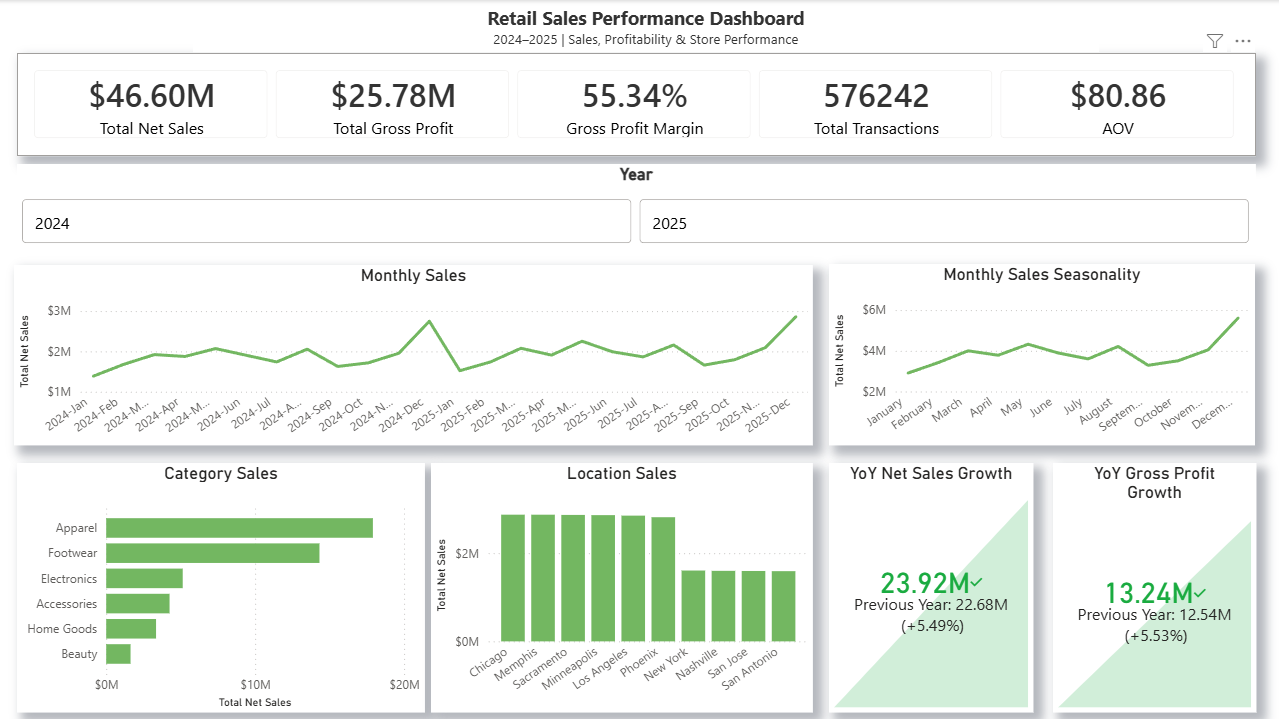

This screenshot's page, from the dashboard's own definition file:
{"tool":"powerbi","page":{"name":"Executive Dashboard","canvas":[1280,720],"ordinal":0},"visuals":[{"type":"cardVisual","fields":{"Data":["Measures Table.Total Net Sales","Measures Table.Total Gross Profit","Measures Table.Gross Profit Margin","Measures Table.Total Transactions","Measures Table.AOV"]},"box":[18.1,52.4,1235.7,102.8],"z":0},{"type":"lineChart","title":"Monthly Sales","fields":{"Category":["Calendar.year_month"],"Y":["Measures Table.Total Net Sales"]},"box":[15.1,264.1,797.2,180.4],"z":1000},{"type":"clusteredBarChart","title":"Category Sales","fields":{"Category":["dim_category.category"],"Y":["Measures Table.Total Net Sales"]},"box":[18.1,461.6,407.2,248.9],"z":2000},{"type":"clusteredColumnChart","title":"Location Sales","fields":{"Category":["dim_stores.location"],"Y":["Measures Table.Total Net Sales"]},"box":[431.4,461.6,381,248.9],"z":3000},{"type":"advancedSlicerVisual","title":"Year","fields":{"Values":["Calendar.year"]},"box":[18.1,163.3,1235.7,84.7],"z":4000},{"type":"lineChart","title":"Monthly Sales Seasonality","fields":{"Category":["Calendar.month_name"],"Y":["Measures Table.Total Net Sales"]},"box":[828.2,263.7,425.1,181.2],"z":5000},{"type":"kpi","title":"YoY Net Sales Growth","fields":{"Goal":["Time Intelligence Measures.Precious Year Net Sales"],"Indicator":["Time Intelligence Measures.Current Year Net Sales"],"TrendLine":["Calendar.start_of_year"]},"box":[828.5,461.6,203.6,248.9],"z":6000},{"type":"kpi","title":"YoY Gross Profit Growth","fields":{"Goal":["Time Intelligence Measures.Previous Year Gross Profit"],"Indicator":["Time Intelligence Measures.Current Year Gross Profit"],"TrendLine":["Calendar.start_of_year"]},"box":[1051.2,461.6,202.6,248.9],"z":7000},{"type":"textbox","box":[194,0,903.7,52.3],"z":8000}]}

Visuals, with their boxes in screenshot pixels (x1, y1, x2, y2), scaled from the page's 1280x720 canvas onto the 1279x719 screenshot:
cardVisual - Measures Table.Total Net Sales x Measures Table.Total Gross Profit: 18 52 1253 155
"Monthly Sales" lineChart: 15 264 812 444
"Category Sales" clusteredBarChart: 18 461 425 710
"Location Sales" clusteredColumnChart: 431 461 812 710
"Year" advancedSlicerVisual: 18 163 1253 248
"Monthly Sales Seasonality" lineChart: 828 263 1252 444
"YoY Net Sales Growth" kpi: 828 461 1031 710
"YoY Gross Profit Growth" kpi: 1050 461 1253 710
textbox: 194 0 1097 52
